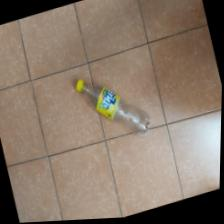plastic: (72, 69, 148, 137)
